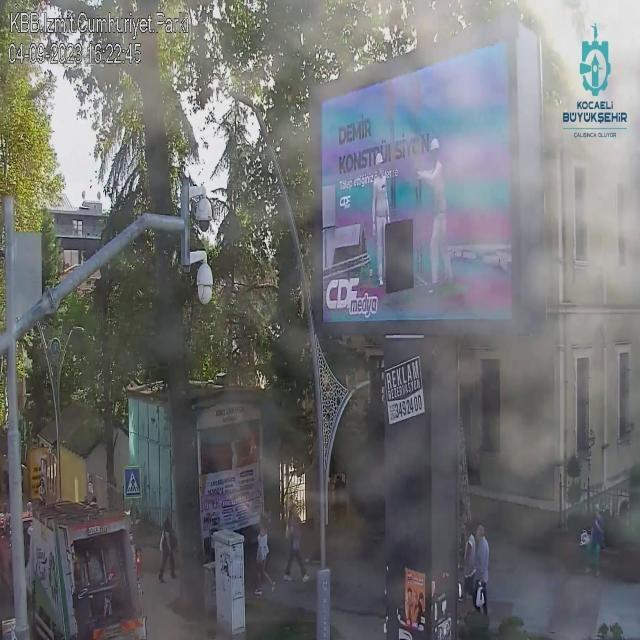Truck: (24, 497, 147, 640)
